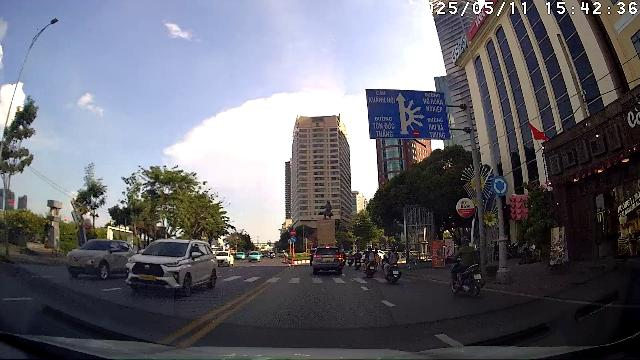303-noi-giao-nhau-chay-theo-vong-xuyen: (490, 175, 509, 196)
